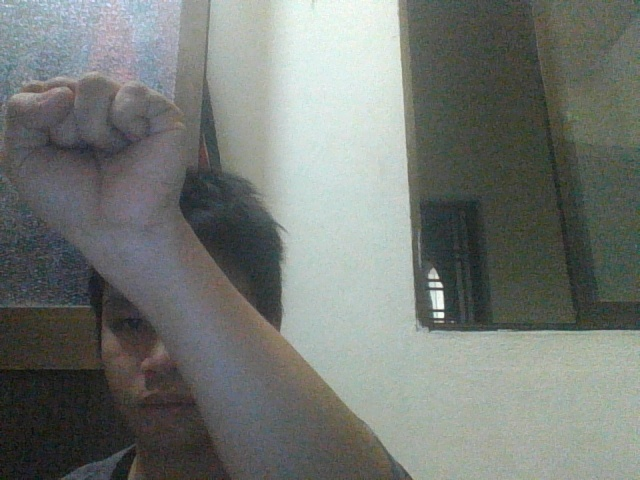stop: (1, 75, 195, 240)
